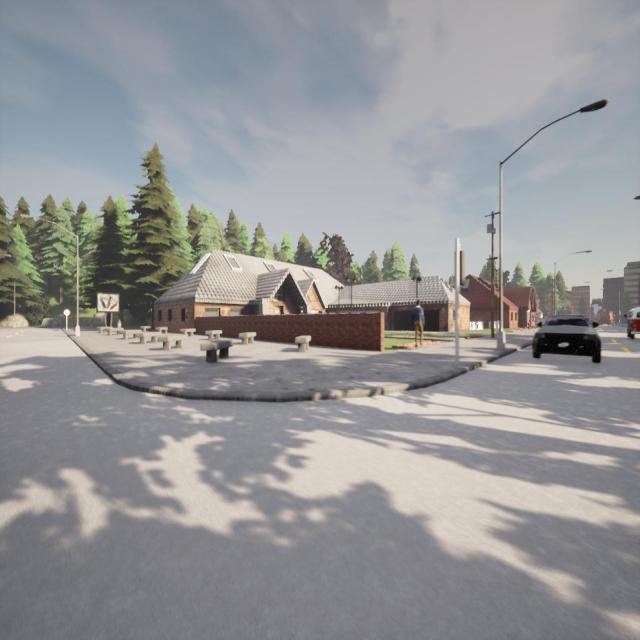Pedestrian: (411, 300, 425, 348), (116, 318, 123, 328)
Traffic_Signs: (63, 309, 71, 317)
Vehicle: (532, 315, 600, 362), (624, 307, 640, 339)
traffic_light: (458, 249, 464, 286), (614, 312, 616, 318)
